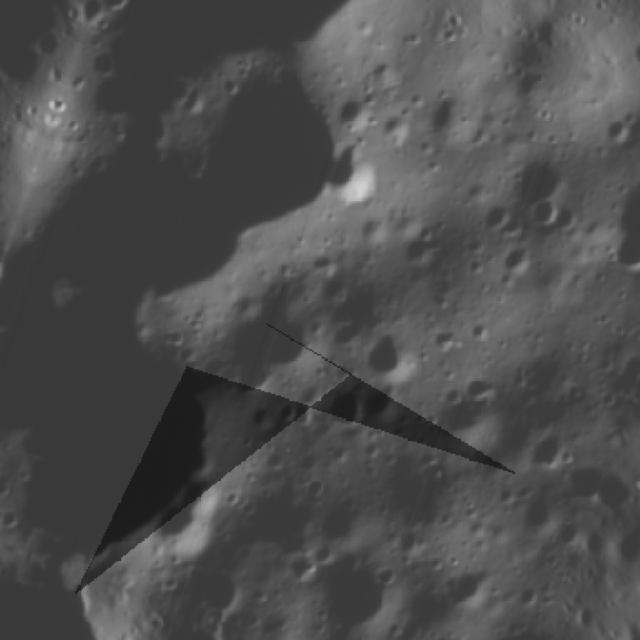crater: (194, 258, 332, 410), (305, 537, 413, 640), (319, 142, 398, 209), (366, 322, 431, 392), (522, 418, 584, 482), (322, 382, 386, 442), (505, 482, 566, 542), (440, 554, 498, 617), (604, 166, 640, 262), (390, 614, 488, 640), (524, 186, 573, 237), (561, 455, 607, 508), (90, 0, 158, 28), (0, 242, 25, 315), (12, 543, 72, 571)
